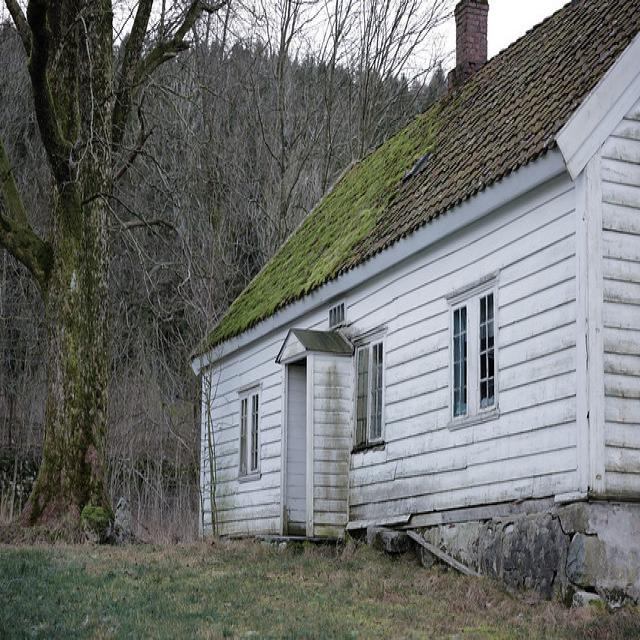Normal_building: (193, 6, 640, 594)
